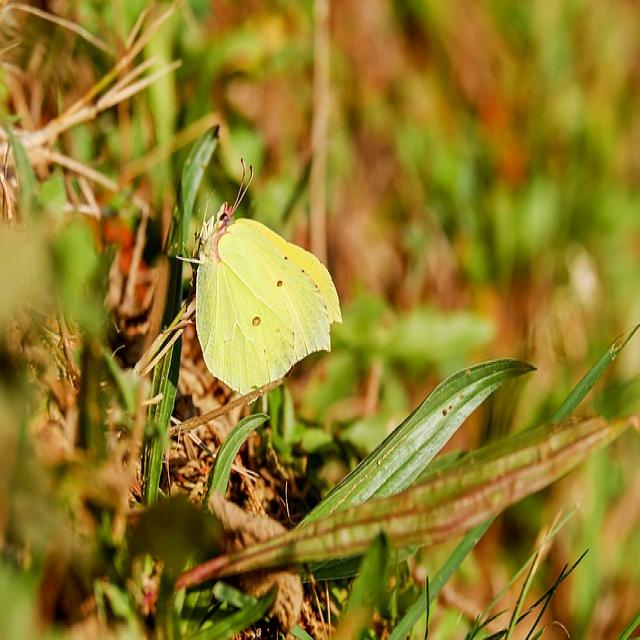butterfly: (195, 204, 343, 406)
